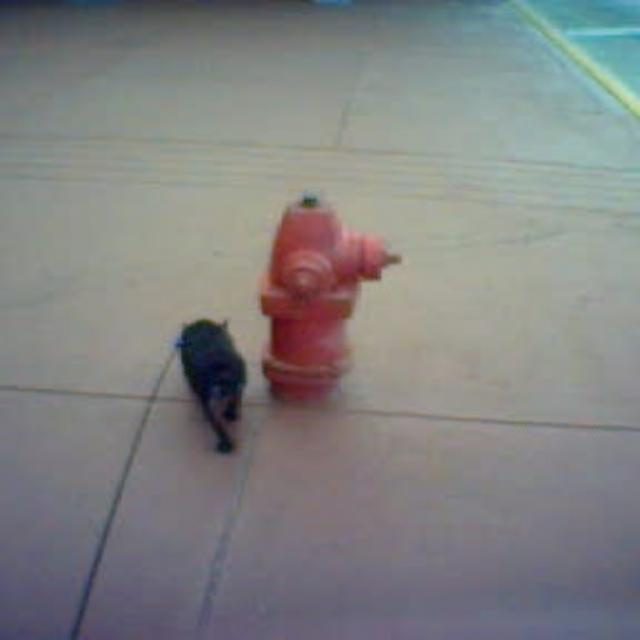dog: (176, 314, 247, 454)
fire_hydrant: (254, 189, 396, 406)
